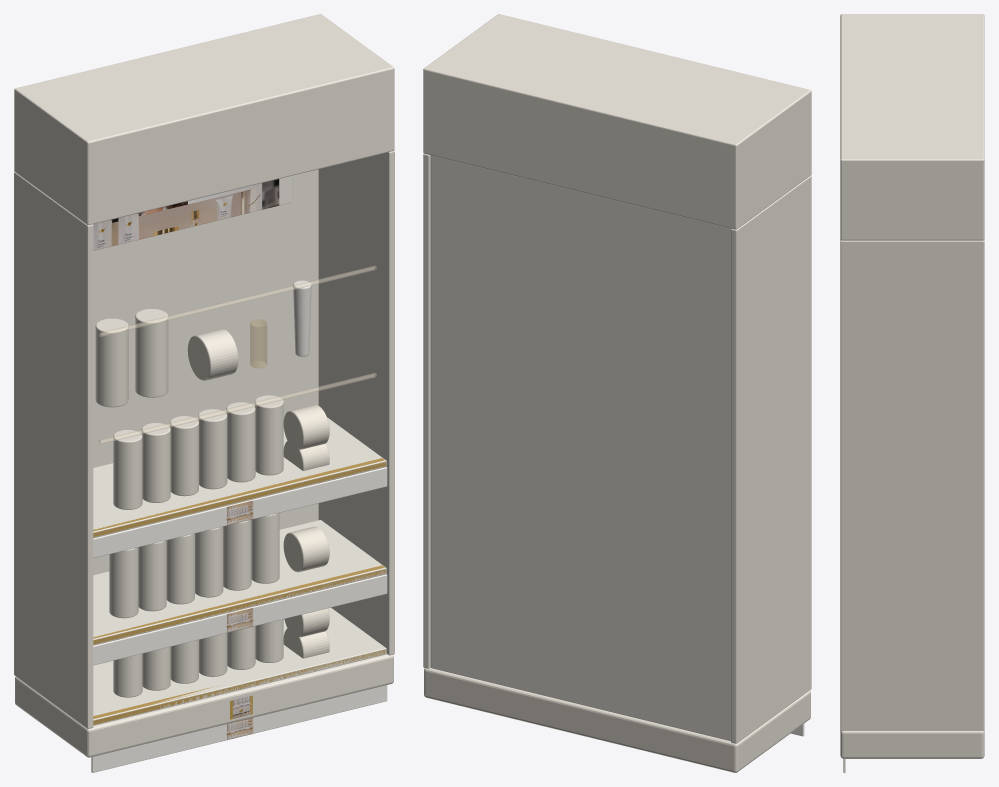
Rendered from rack.glb.
3 views of the same model, side by side, from view 1: azimuth 30°, elevation 25°; view 2: azimuth 150°, elevation 25°; view 3: azimuth 270°, elevation 25° (orthographic). The views are drawn at different scales.
Parts seen in each view (by area): view 1: crown.arch, side.panel_1, back.panel, side.panel_2, base.plinth, shelf.deck_2, shelf.deck.low, shelf.deck_3, shelf.talker_2, shelf.talker_3, header.graphic, shelf.talker_1 (+33 smaller); view 2: back.panel, crown.arch, side.panel_1, base.plinth, side.panel_2; view 3: side.panel_2, crown.arch, base.plinth.
Part boxes in pixels (left/top/right/bottom): crown.arch: left=14, top=14, right=394, bottom=225; side.panel_1: left=14, top=172, right=93, bottom=728; back.panel: left=93, top=169, right=318, bottom=645; side.panel_2: left=318, top=151, right=394, bottom=655; base.plinth: left=15, top=654, right=393, bottom=757; shelf.deck_2: left=93, top=520, right=386, bottom=645; shelf.deck.low: left=93, top=607, right=386, bottom=725; shelf.deck_3: left=93, top=417, right=386, bottom=537; shelf.talker_2: left=93, top=574, right=387, bottom=665; shelf.talker_3: left=93, top=467, right=387, bottom=557; header.graphic: left=93, top=175, right=292, bottom=250; shelf.talker_1: left=91, top=685, right=387, bottom=772; back.panel: left=430, top=155, right=730, bottom=741; crown.arch: left=423, top=14, right=811, bottom=229; side.panel_1: left=731, top=175, right=811, bottom=743; base.plinth: left=424, top=667, right=810, bottom=772; side.panel_2: left=423, top=153, right=430, bottom=668; side.panel_2: left=840, top=239, right=984, bottom=730; crown.arch: left=840, top=14, right=984, bottom=240; base.plinth: left=840, top=730, right=984, bottom=758.
Size of the model in its own units: 0.9144 by 1.8 by 0.381.
20 materials, 6 textured.
